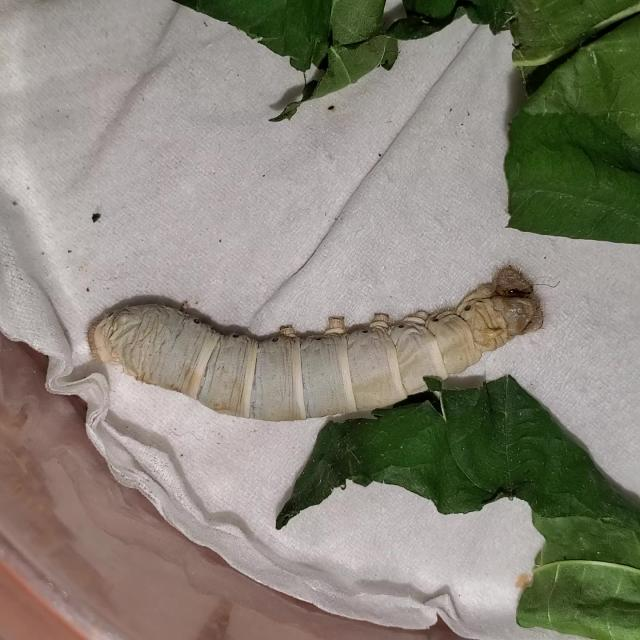Grasserie: (53, 230, 576, 493)
